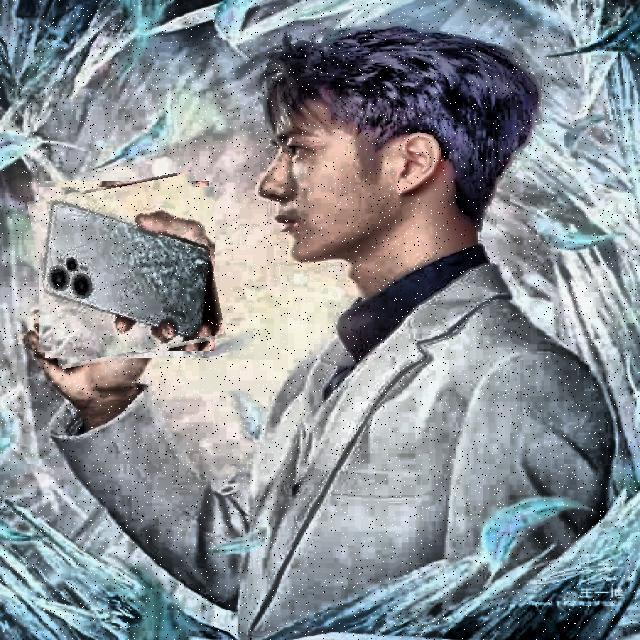Phone: (34, 177, 220, 362)
